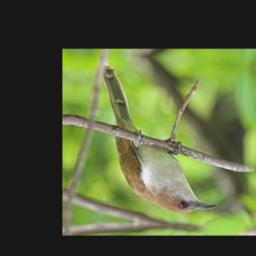Cuckoo: (89, 64, 231, 218)
